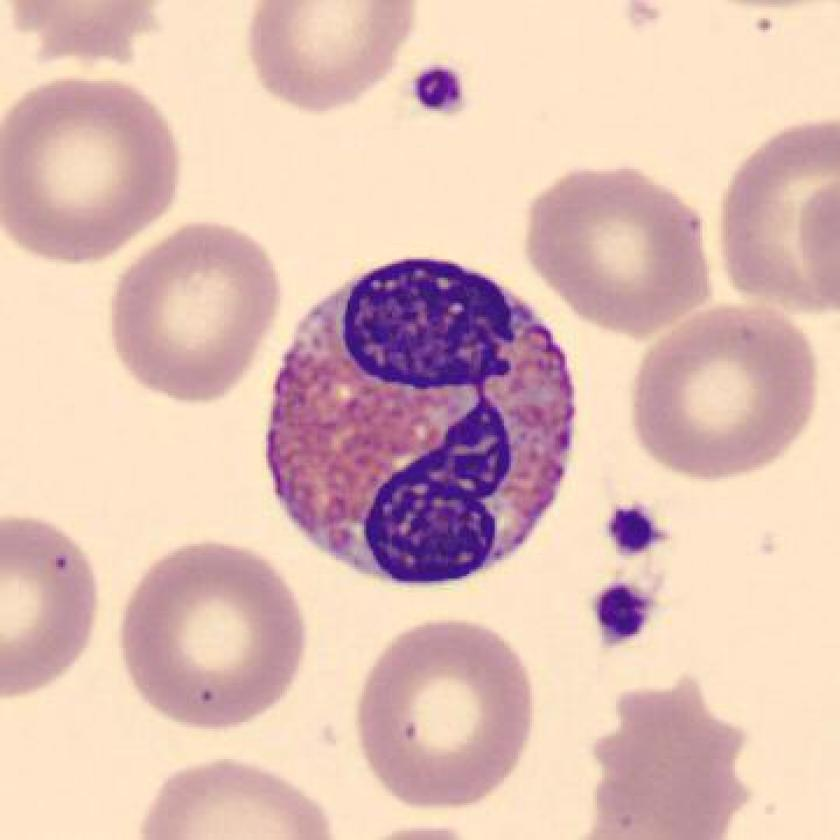eosinophil: (255, 247, 582, 601)
